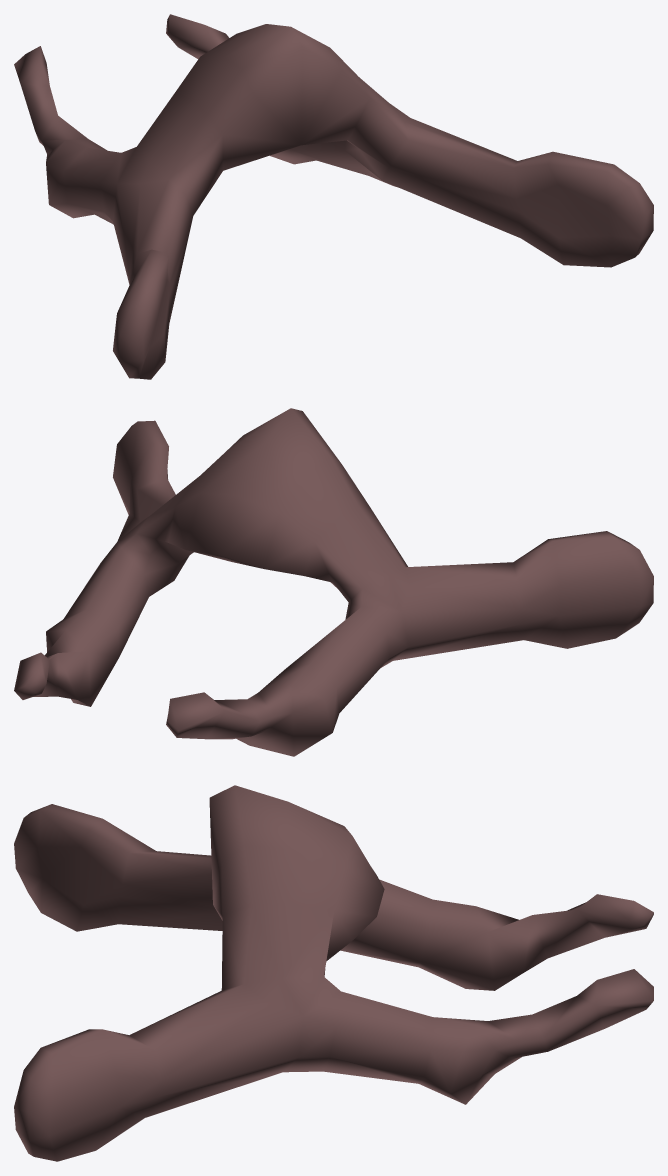
The model's file is SM_DogSkeletonPelvis.FBX.
3 renders of one model, top to bottom at view 1: azimuth 30°, elevation 25°; view 2: azimuth 150°, elevation 25°; view 3: azimuth 270°, elevation 25°, orthographic. The views are drawn at different scales.
Visible parts, largest first — view 1: SM_DogSkeletonPelvis; view 2: SM_DogSkeletonPelvis; view 3: SM_DogSkeletonPelvis.
Boxes of the visible parts, box(x1,y1,x2,y2) form: SM_DogSkeletonPelvis: box(14, 14, 653, 379); SM_DogSkeletonPelvis: box(14, 408, 653, 756); SM_DogSkeletonPelvis: box(14, 785, 653, 1161).
Bounding box in the file's own units: 53.18 × 23.12 × 51.24.
